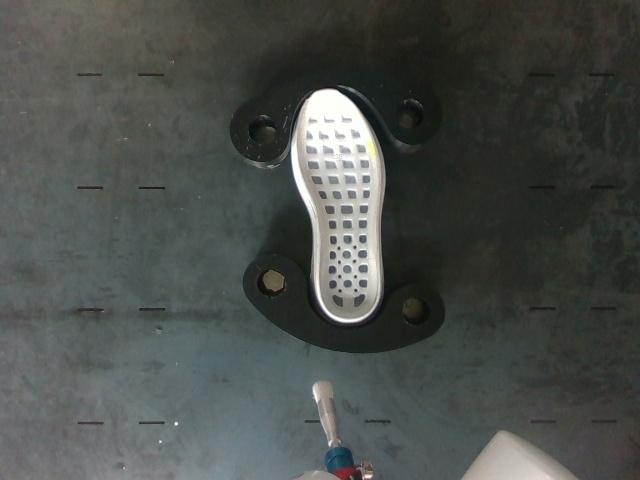shoes: (296, 89, 381, 321)
